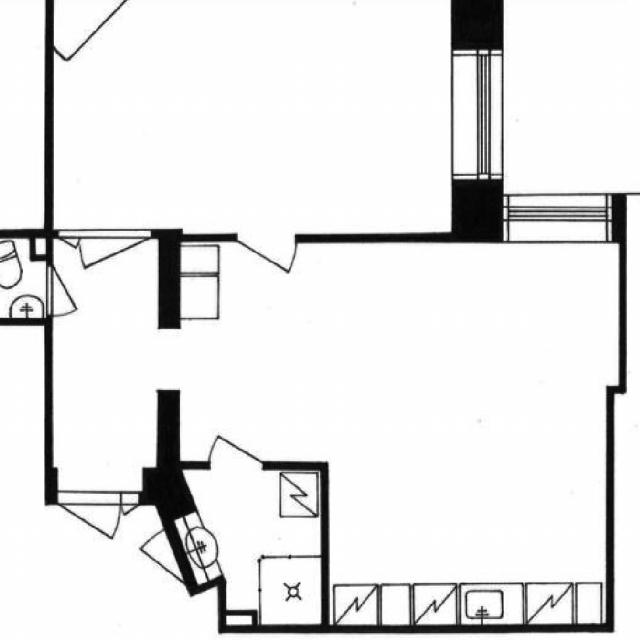door: (79, 228, 151, 312), (57, 491, 119, 568), (237, 234, 295, 303), (209, 407, 262, 469), (47, 266, 100, 314), (119, 491, 139, 523), (58, 228, 79, 258)
